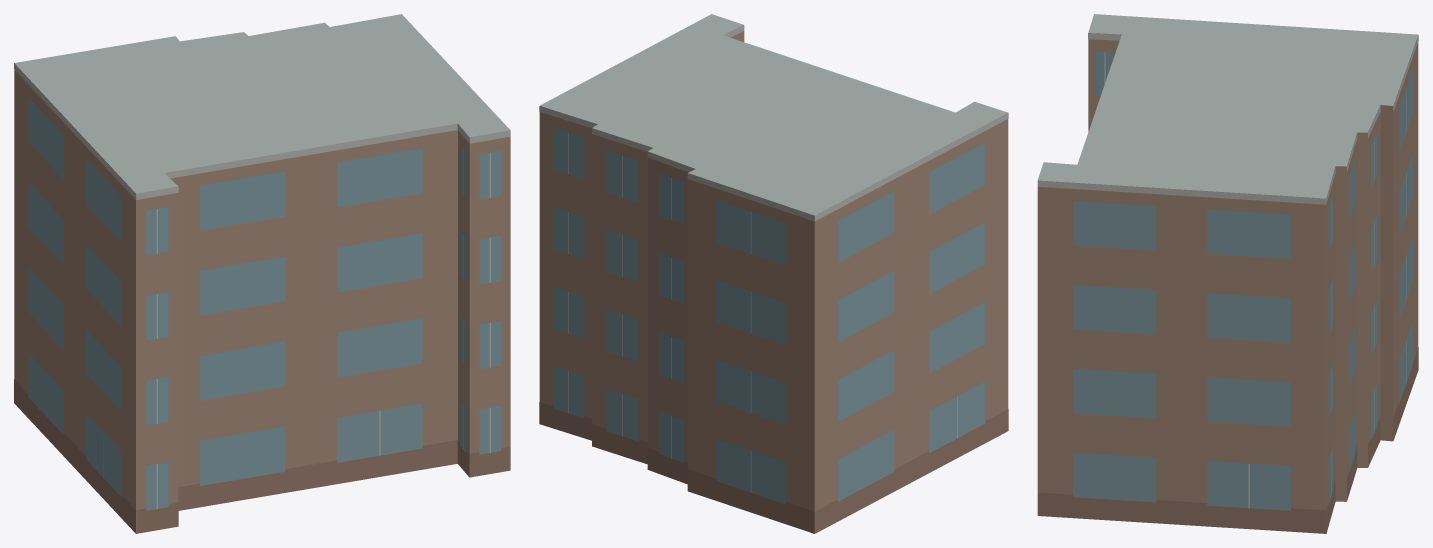
Rendered from survey-upis-32764057.glb.
3 renders of one model, left to right at view 1: azimuth 30°, elevation 25°; view 2: azimuth 150°, elevation 25°; view 3: azimuth 270°, elevation 25°, orthographic. The views are drawn at different scales.
Parts seen in each view (by area): view 1: survey-upis-32764057.tmp; view 2: survey-upis-32764057.tmp; view 3: survey-upis-32764057.tmp.
Part boxes in pixels (x1,y1,x2,y2): survey-upis-32764057.tmp: (14,14,510,533); survey-upis-32764057.tmp: (539,14,1008,533); survey-upis-32764057.tmp: (1037,14,1418,533).
Bounding box in the file's own units: 15.41 × 13.05 × 13.45.
